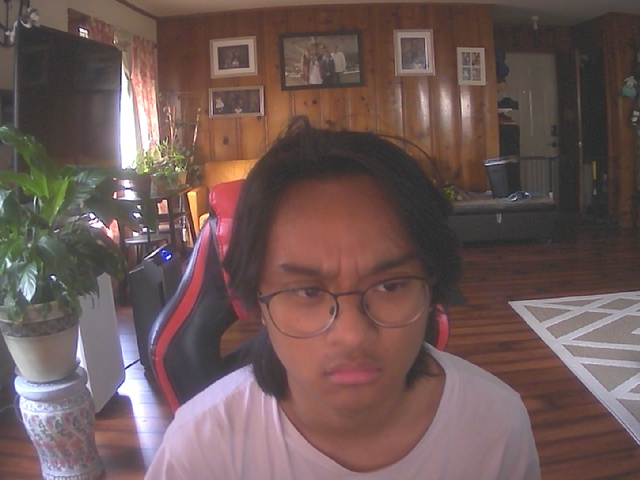anger: (254, 144, 446, 415)
